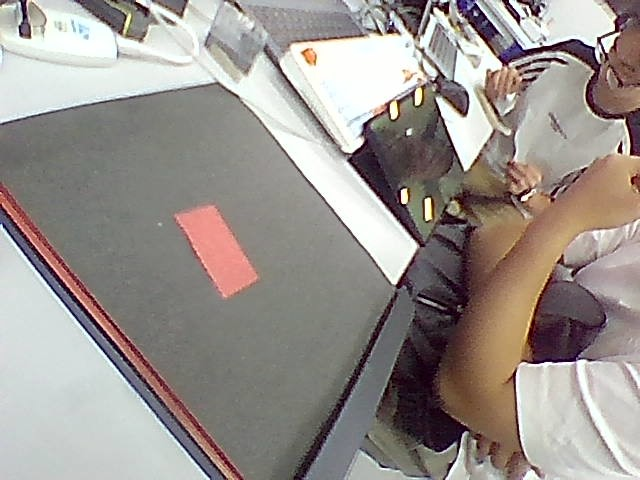card: (175, 205, 258, 297)
